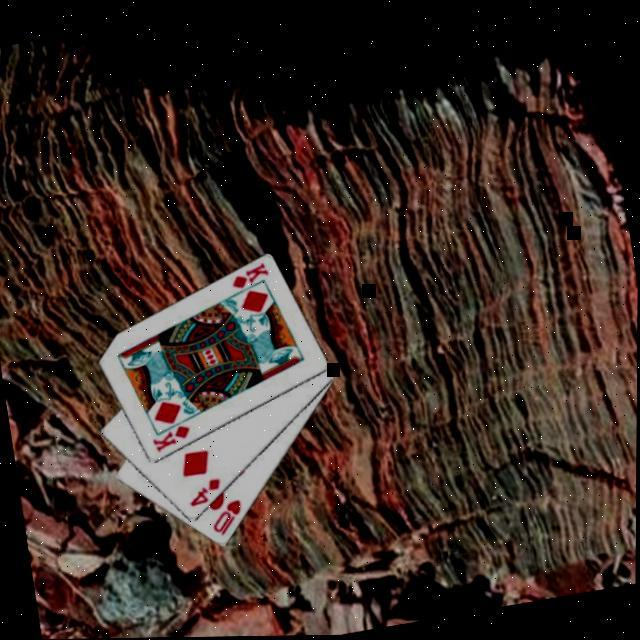10H: (209, 499, 251, 542)
4D: (186, 477, 228, 513)
KD: (150, 423, 198, 459), (229, 261, 275, 296)
